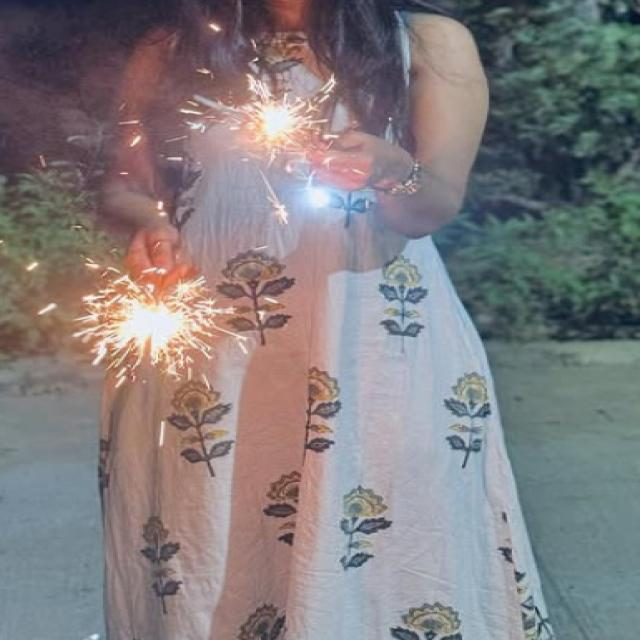fire: (122, 284, 188, 367), (264, 102, 303, 138)
